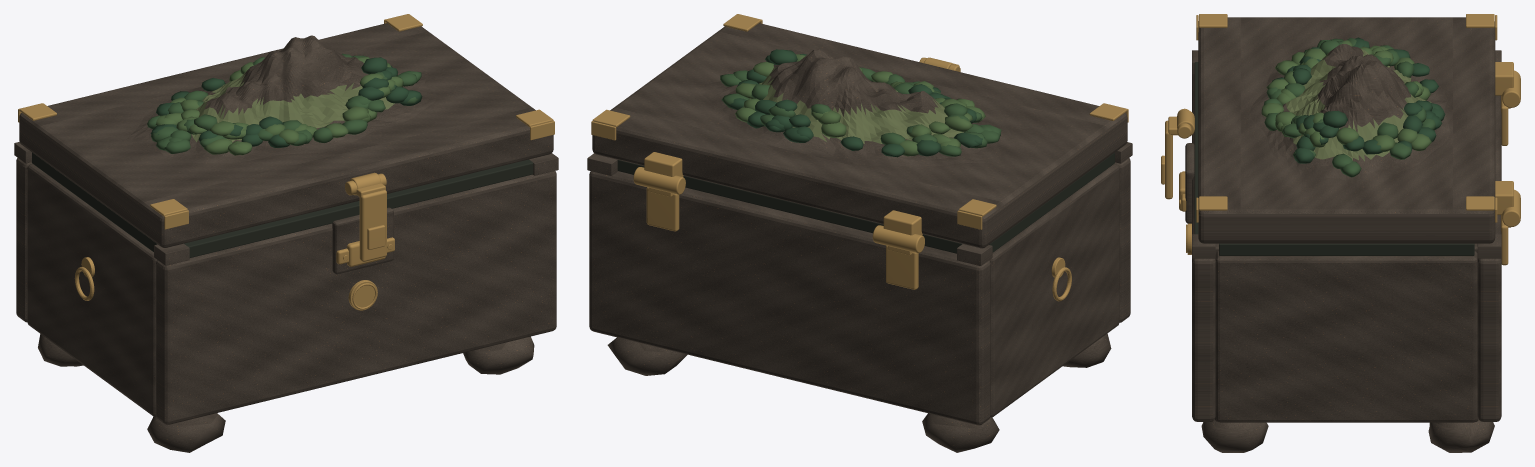
File: cameroon.glb
3 views of the same model, side by side, from view 1: azimuth 30°, elevation 25°; view 2: azimuth 150°, elevation 25°; view 3: azimuth 270°, elevation 25° (orthographic). The views are drawn at different scales.
Visible parts, largest first — view 1: Basalt / front, Lid / polished slab, Basalt / side, Fako / elongated volcanic massif, Seam / long, Basalt foot, Basalt / rear, Basalt foot.002, Latch / lifting hasp, Basalt / clasp seat, Seam / side, Basalt foot.001 (+2 smaller); view 2: Basalt / rear, Lid / polished slab, Basalt / side, Fako / elongated volcanic massif, Seam / long.001, Basalt foot.001, Basalt / front, Basalt foot.003, Seam / side, Hinge / fixed mount.001, Hinge / fixed mount, Hinge / fixed barrel (+6 smaller); view 3: Lid / polished slab, Basalt / side.001, Fako / elongated volcanic massif, Basalt / rear, Basalt / front, Seam / side.001, Basalt foot.002, Basalt foot.003, Seam / long, Basalt / clasp seat, Hinge / moving leaf, Latch / lifting hasp (+9 smaller).
Part boxes in pixels (box(x1,y1,x2,y2)): Basalt / front: box(156, 171, 556, 424); Lid / polished slab: box(19, 23, 553, 247); Basalt / side: box(27, 163, 156, 416); Fako / elongated volcanic massif: box(125, 35, 437, 162); Seam / long: box(184, 159, 533, 257); Basalt foot: box(147, 413, 225, 452); Basalt / rear: box(16, 157, 31, 322); Basalt foot.002: box(463, 336, 534, 374); Latch / lifting hasp: box(359, 190, 386, 261); Basalt / clasp seat: box(332, 207, 393, 274); Seam / side: box(32, 152, 157, 251); Basalt foot.001: box(38, 334, 83, 366); Basalt / rear: box(589, 171, 990, 425); Lid / polished slab: box(592, 23, 1127, 248); Basalt / side: box(989, 164, 1119, 417); Fako / elongated volcanic massif: box(698, 49, 1010, 166); Seam / long.001: box(617, 160, 962, 253); Basalt foot.001: box(922, 413, 999, 452); Basalt / front: box(1114, 158, 1130, 322); Basalt foot.003: box(607, 337, 687, 375); Seam / side: box(989, 152, 1114, 252); Hinge / fixed mount.001: box(646, 187, 679, 231); Hinge / fixed mount: box(886, 245, 918, 289); Hinge / fixed barrel: box(872, 225, 924, 253); Lid / polished slab: box(1198, 17, 1495, 243); Basalt / side.001: box(1215, 251, 1477, 422); Fako / elongated volcanic massif: box(1250, 38, 1449, 187); Basalt / rear: box(1477, 95, 1501, 421); Basalt / front: box(1192, 74, 1215, 421); Seam / side.001: box(1219, 243, 1474, 255); Basalt foot.002: box(1201, 419, 1268, 452); Basalt foot.003: box(1428, 419, 1494, 452); Seam / long: box(1194, 62, 1198, 234); Basalt / clasp seat: box(1185, 143, 1194, 223); Hinge / moving leaf: box(1495, 62, 1513, 95); Latch / lifting hasp: box(1165, 120, 1172, 199).
Bounding box in the file's own units: 3.79 × 2.87 × 2.88.
7 materials, 1 textured.
